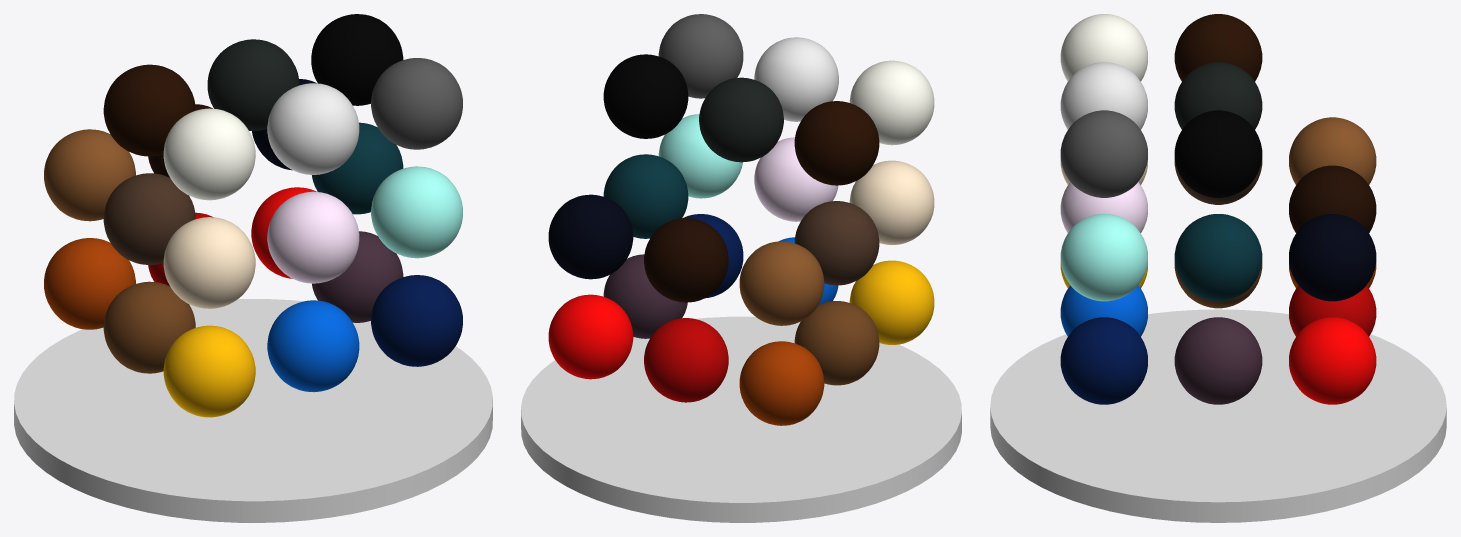
File: personaFinishSpheresMatrix.glb
The picture shows the model from 3 angles, left to right: view 1: azimuth 30°, elevation 25°; view 2: azimuth 150°, elevation 25°; view 3: azimuth 270°, elevation 25°; orthographic projection. The views are drawn at different scales.
Parts seen in each view (by area): view 1: Cylinder, Cube.010, Cube.011, Cube.006, Cube.007, Cube.014, Cube.003, Cube.005, Cube.002, Cube.001, Cube.017, Cube.015 (+9 smaller); view 2: Cylinder, Cube.012, Cube.017, Cube, Cube.013, Cube.004, Cube.021, Cube.009, Cube.018, Cube.020, Cube.010, Cube.008 (+10 smaller); view 3: Cylinder, Cube.019, Cube, Cube.007, Cube.021, Cube.016, Cube.002, Cube.012, Cube.001, Cube.020, Cube.017, Cube.018 (+8 smaller).
Part boxes in pixels (x1,y1,x2,y2): Cylinder: (14,299,492,522); Cube.010: (163,108,255,200); Cube.011: (163,325,255,417); Cube.006: (267,191,359,283); Cube.007: (371,166,462,258); Cube.014: (267,300,359,392); Cube.003: (267,83,359,174); Cube.005: (163,217,255,308); Cube.002: (371,58,462,149); Cube.001: (371,275,462,366); Cube.017: (103,64,195,156); Cube.015: (103,281,195,373); Cylinder: (521,316,961,522); Cube.012: (548,294,633,379); Cube.017: (794,101,879,185); Cube: (603,54,688,138); Cube.013: (644,318,728,402); Cube.004: (739,341,824,425); Cube.021: (548,194,633,279); Cube.009: (739,241,824,325); Cube.018: (644,218,728,302); Cube.020: (699,77,783,162); Cube.010: (849,60,934,145); Cube.008: (794,201,879,285); Cylinder: (990,309,1446,522); Cube.019: (1174,214,1262,301); Cube: (1174,110,1262,197); Cube.007: (1060,214,1147,301); Cube.021: (1289,214,1376,301); Cube.016: (1174,317,1262,404); Cube.002: (1060,110,1147,197); Cube.012: (1289,317,1376,404); Cube.001: (1060,317,1147,404); Cube.020: (1174,62,1262,129); Cube.017: (1174,14,1262,81); Cube.018: (1289,165,1376,232).
Size of the model in its own units: 2 by 1.74 by 2.
